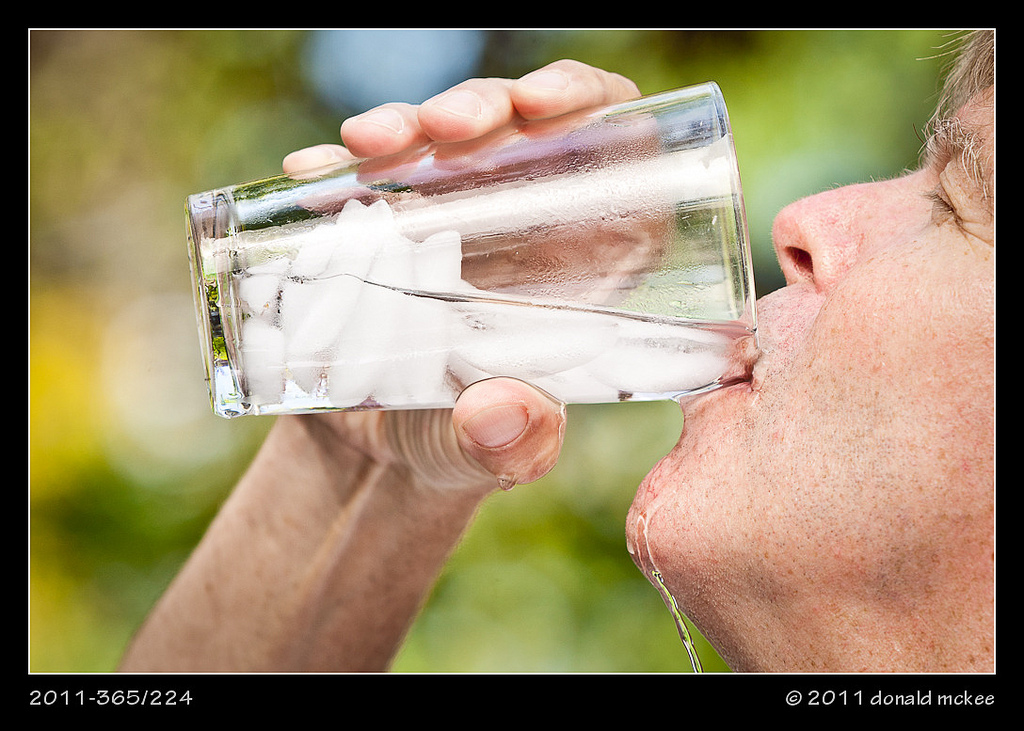glass of water: (187, 80, 768, 427)
